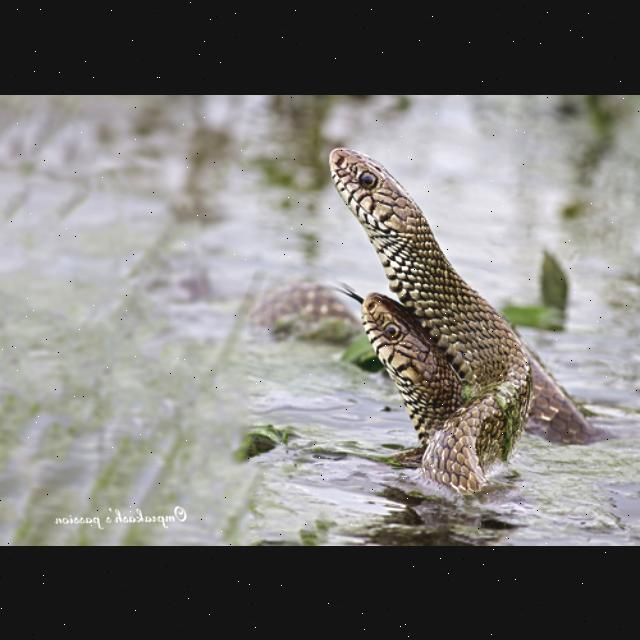snake: (304, 143, 614, 505)
